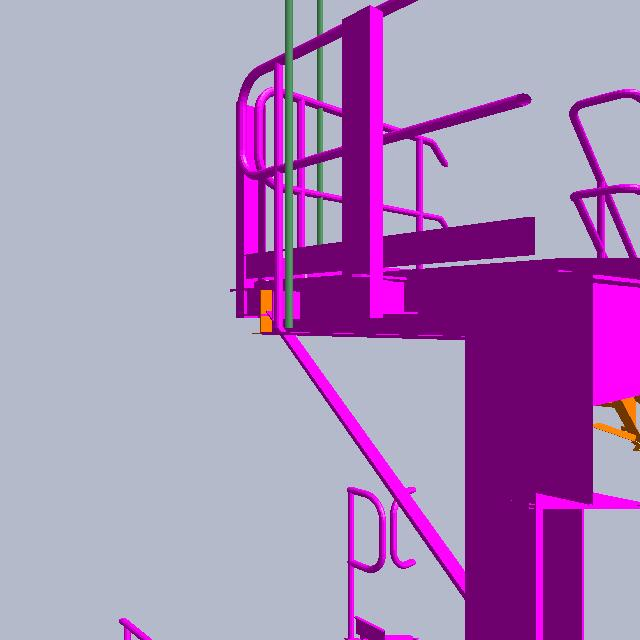Poste: (279, 1, 302, 332), (308, 1, 329, 292)
Soporte: (333, 1, 425, 333), (231, 99, 282, 318)
